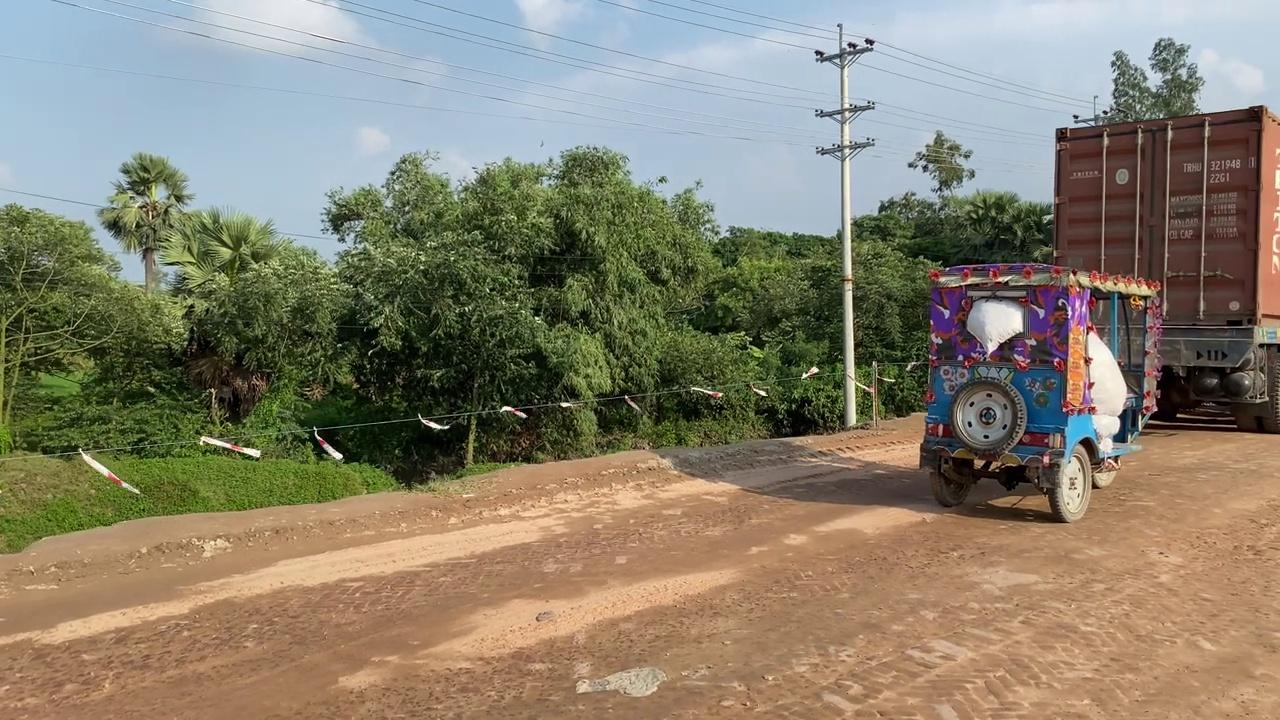Pole: (813, 24, 876, 428)
Traffic-sign: (95, 150, 194, 295)
Tree: (1050, 103, 1278, 434), (917, 261, 1163, 523)
